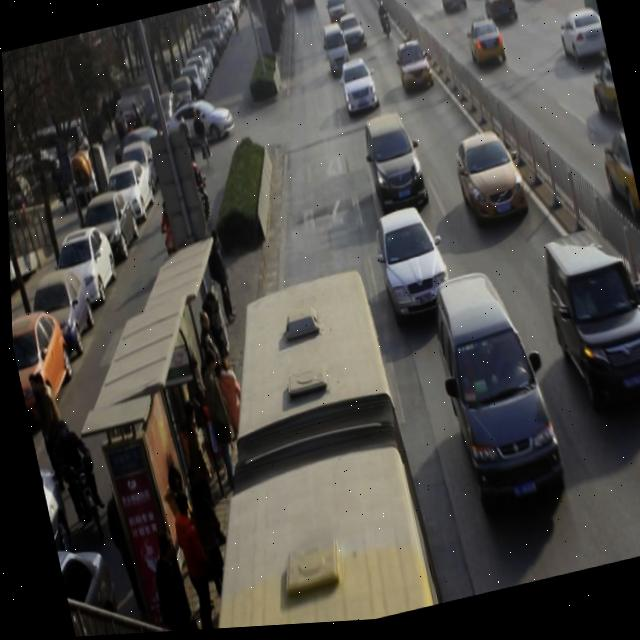car: (535, 228, 640, 425), (368, 209, 452, 329), (449, 135, 529, 238), (358, 115, 427, 221), (595, 134, 640, 232), (554, 11, 608, 75), (391, 42, 434, 103), (336, 61, 378, 122), (586, 63, 621, 135), (463, 21, 506, 76), (480, 0, 518, 35), (337, 16, 367, 59), (324, 0, 349, 32), (435, 0, 467, 22), (461, 0, 491, 6)
truck: (422, 269, 564, 525), (320, 28, 352, 85)
van: (131, 270, 434, 634)
